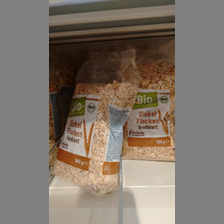cereal: (52, 67, 135, 195), (121, 54, 175, 161)
